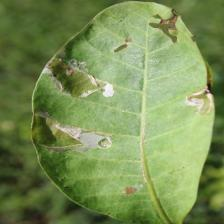leaf miner: (29, 109, 116, 156), (43, 55, 123, 101), (182, 82, 214, 121)
